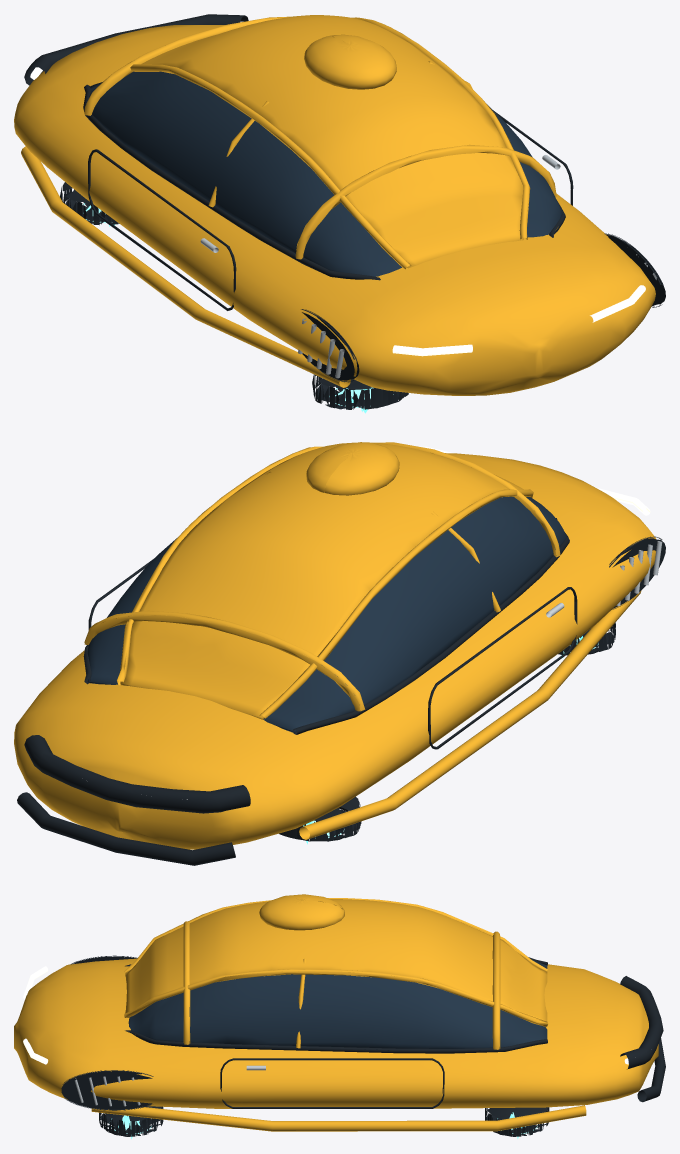
File: car_1.glb
The picture shows the model from 3 angles, top to bottom: view 1: azimuth 30°, elevation 25°; view 2: azimuth 150°, elevation 25°; view 3: azimuth 270°, elevation 25°; orthographic projection. The views are drawn at different scales.
Parts seen in each view (by area): view 1: body; view 2: body; view 3: body.
Boxes of the visible parts, x1=… form: body: x1=14, y1=14, x2=665, y2=413; body: x1=14, y1=442, x2=665, y2=865; body: x1=14, y1=894, x2=665, y2=1139.
Bounding box in the file's own units: 1.97 × 1.41 × 4.14.
